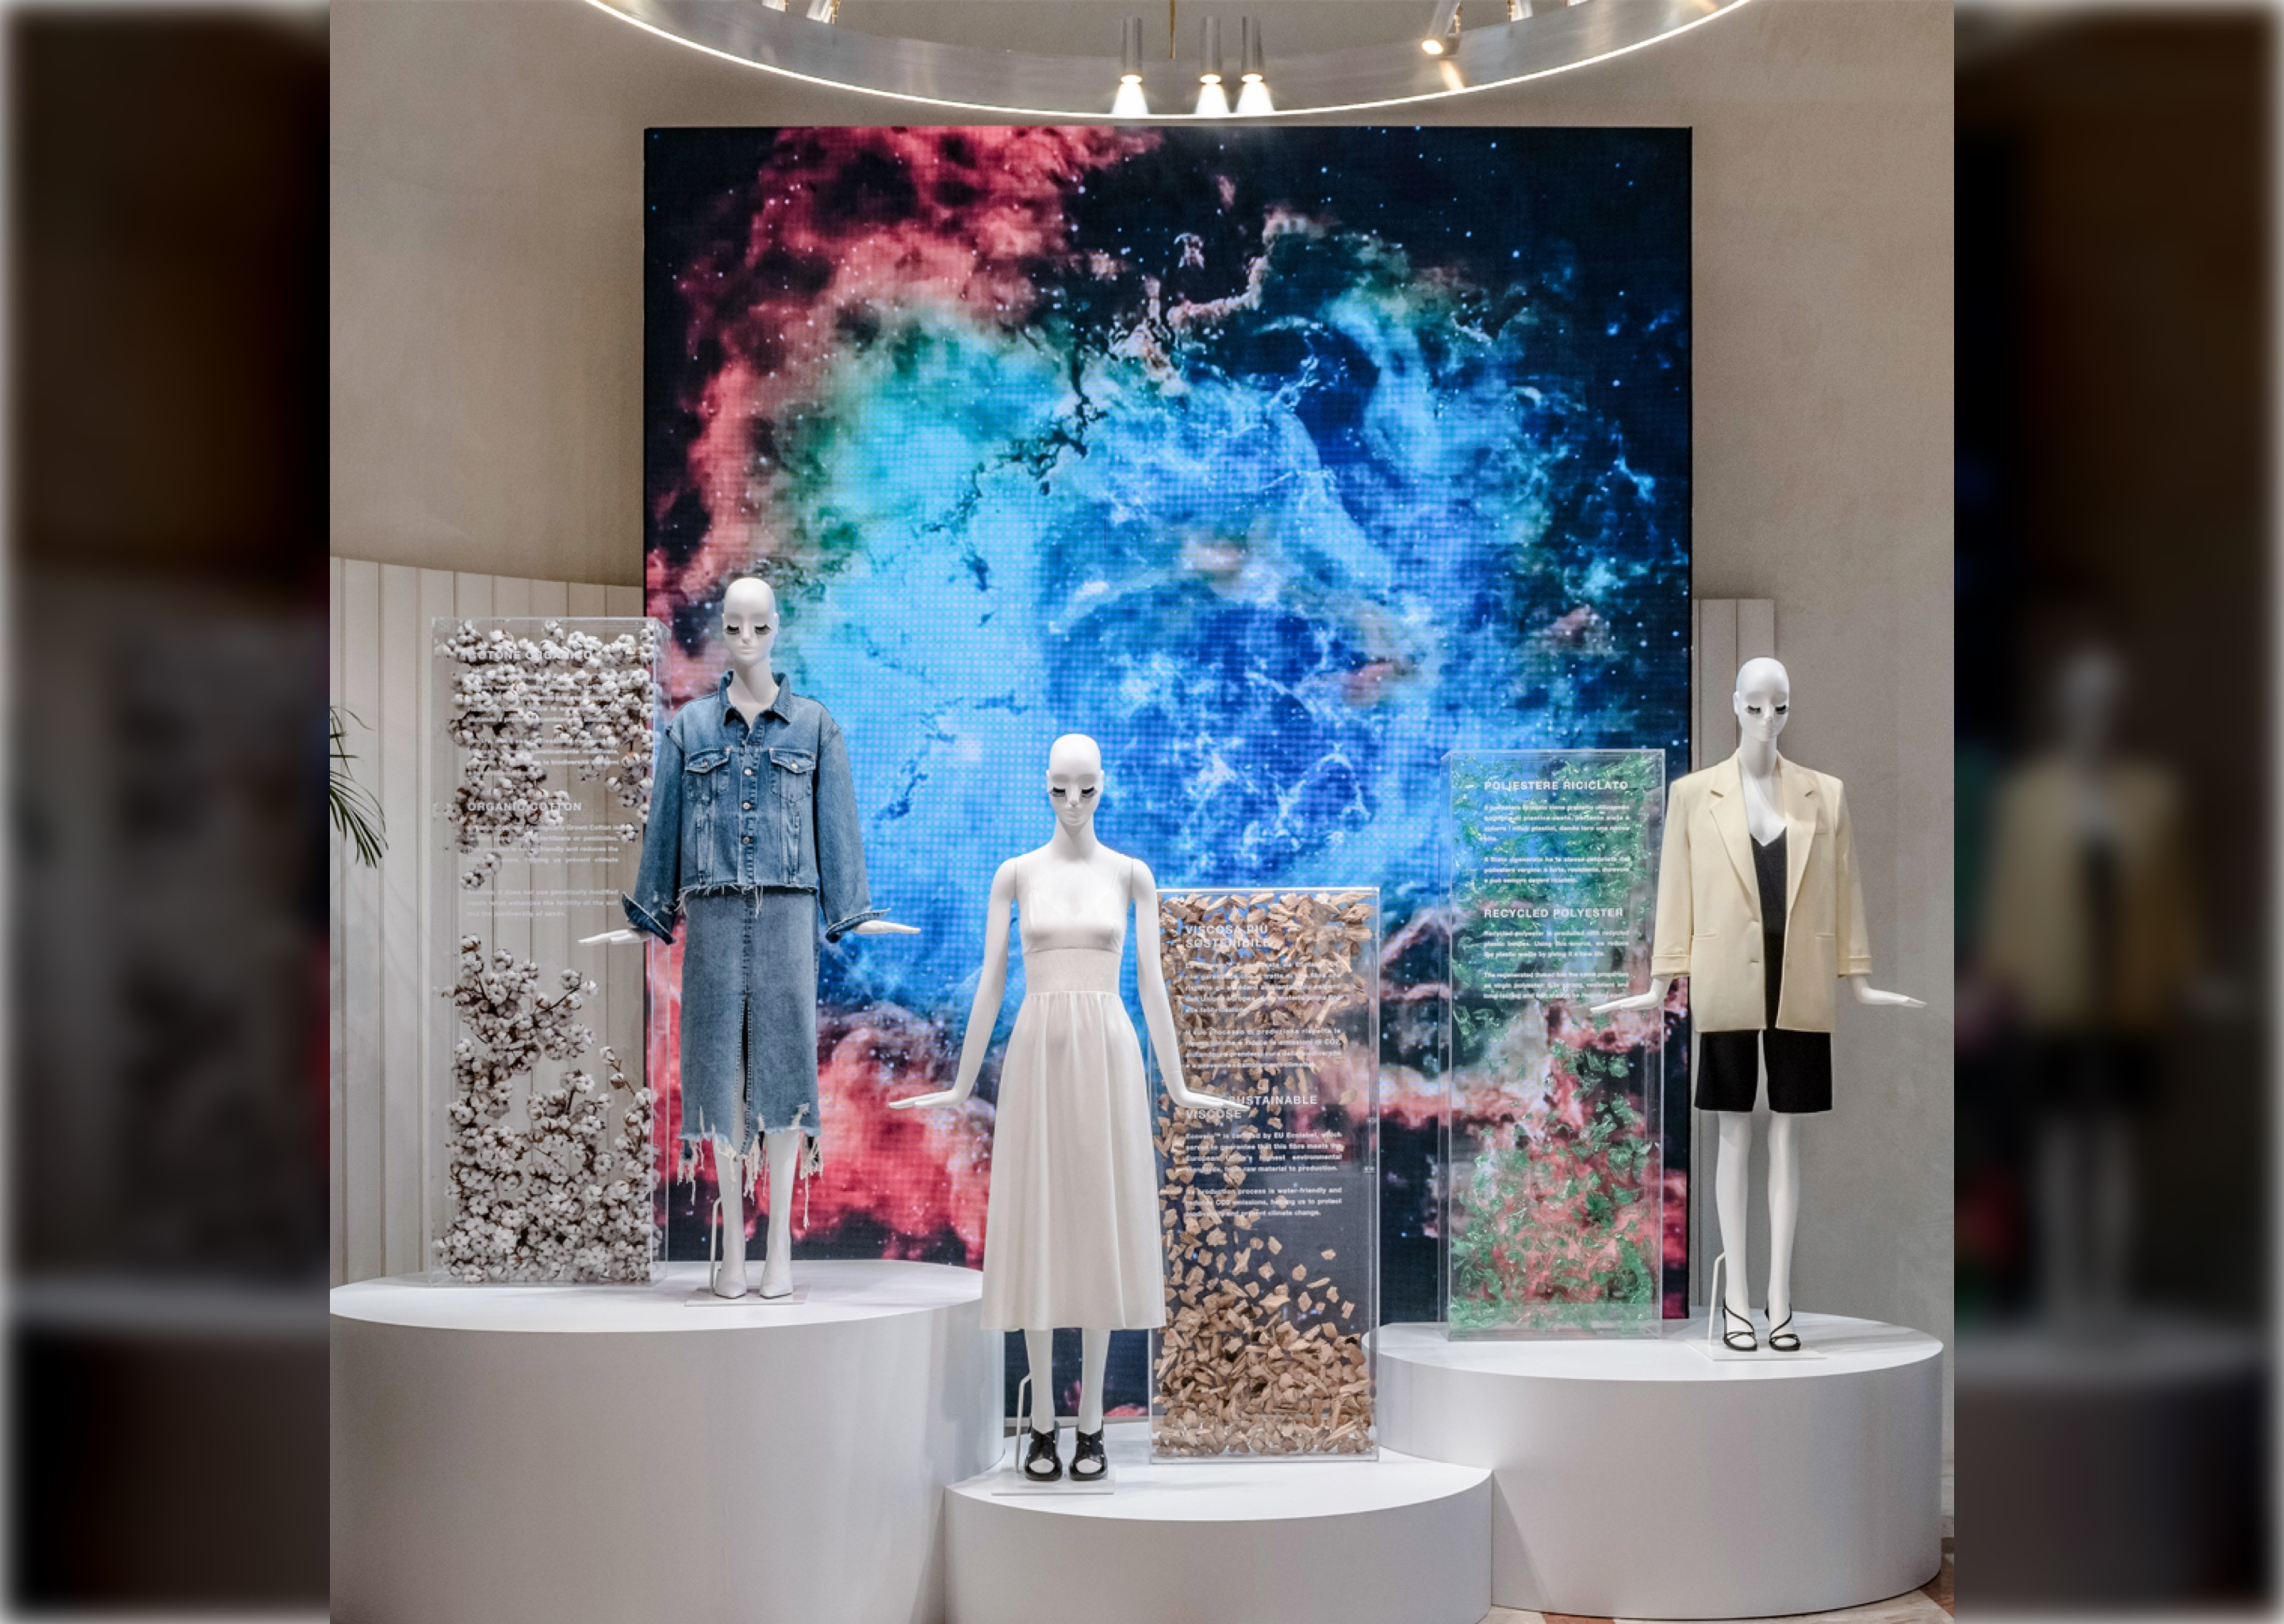person-like: (879, 722, 1258, 1492), (569, 572, 930, 1308), (1584, 648, 1934, 1360)
